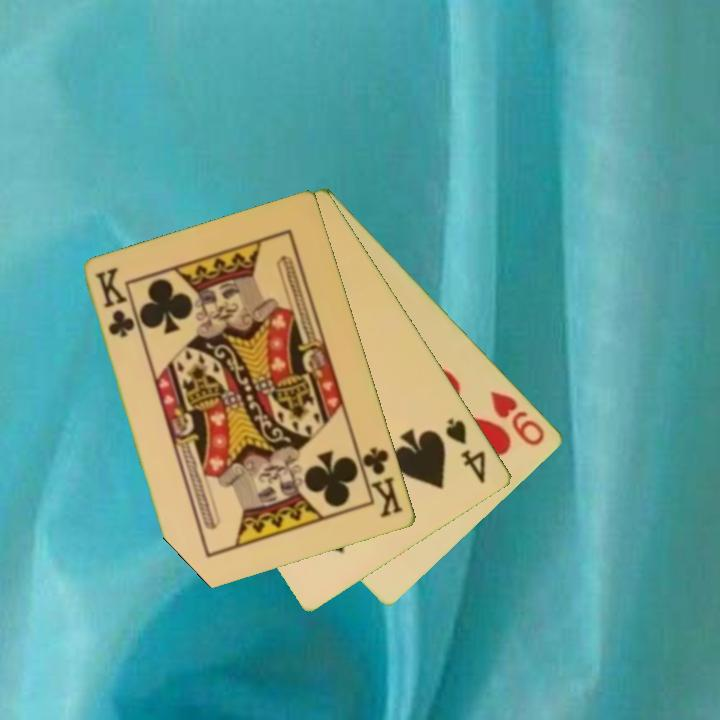4s: (442, 414, 490, 488)
9h: (487, 387, 549, 449)
Kc: (354, 444, 407, 521), (92, 264, 138, 341)
